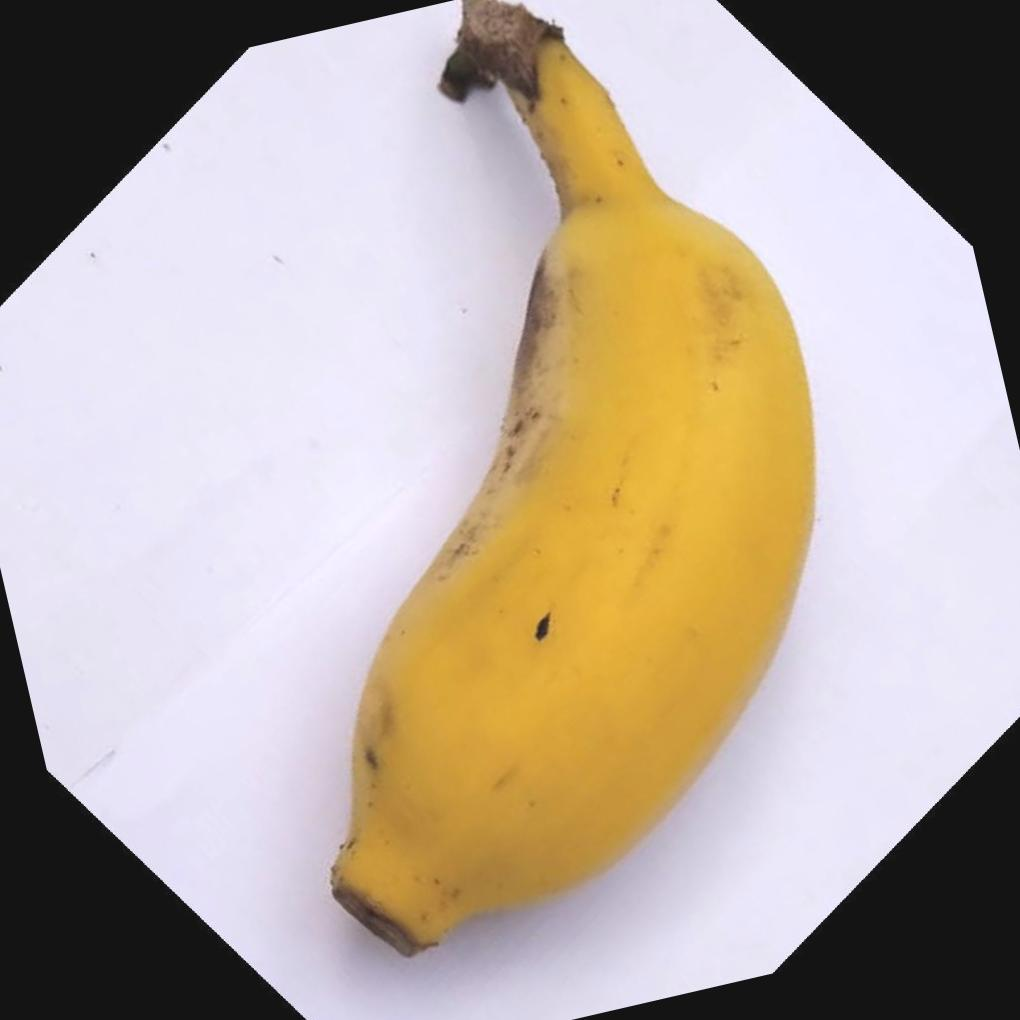Banana Ripe: (140, 0, 994, 1003)
